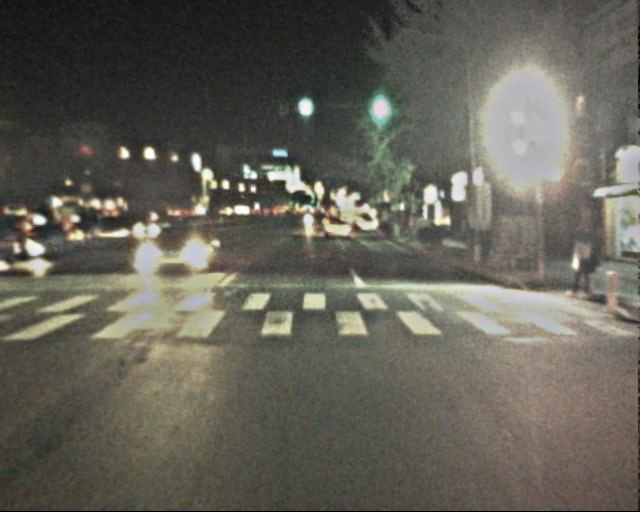person: (563, 229, 598, 302)
